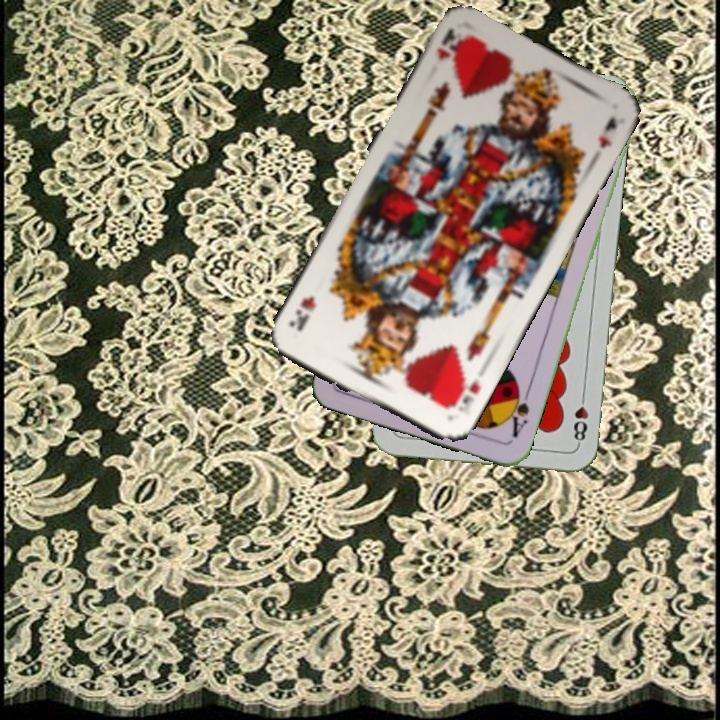H8: (569, 389, 591, 448)
HK: (444, 373, 484, 418), (432, 24, 462, 63)
SA: (502, 382, 533, 440)
